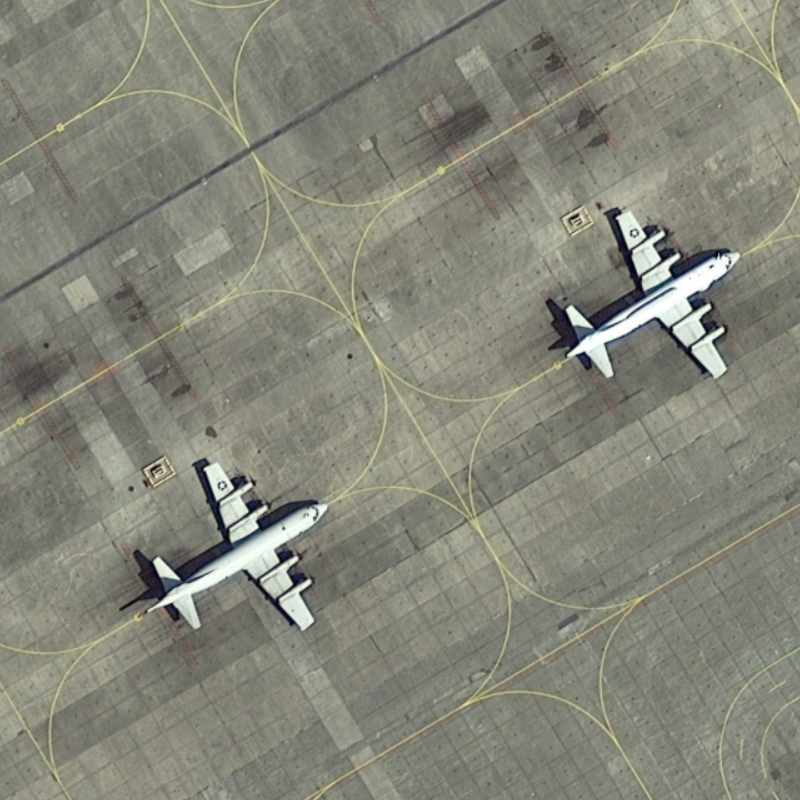A9: (124, 455, 337, 646), (544, 194, 745, 395)
